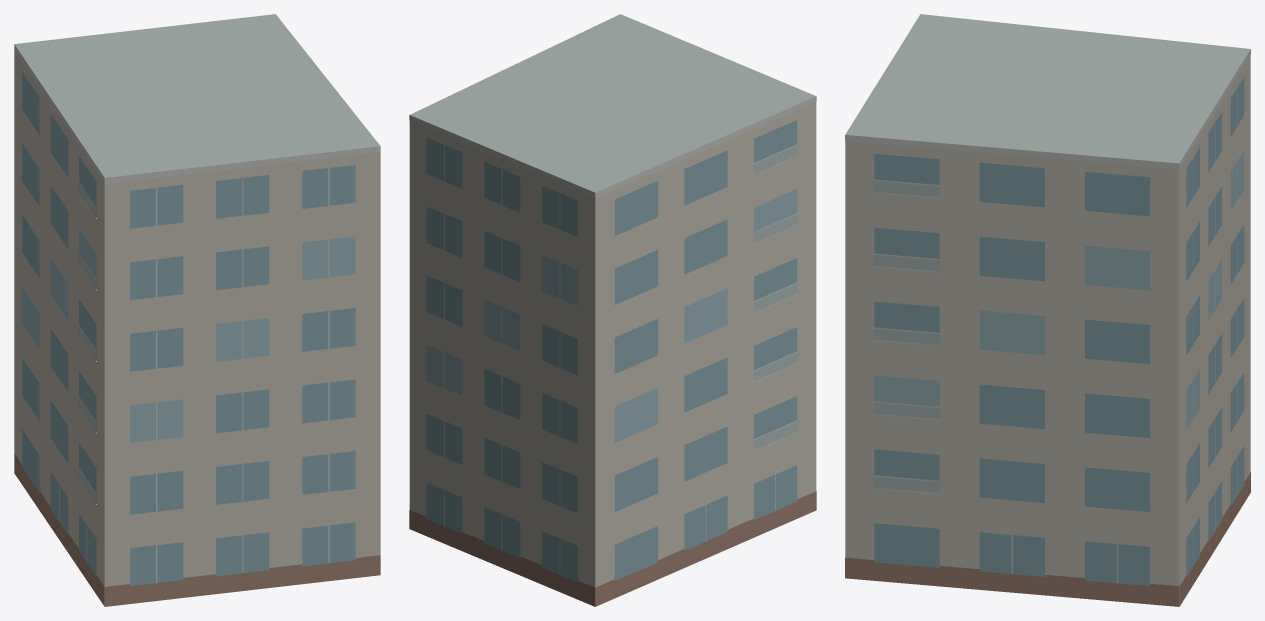
The model's file is survey-upis-32967521.glb.
3 views of the same model, side by side, from view 1: azimuth 30°, elevation 25°; view 2: azimuth 150°, elevation 25°; view 3: azimuth 270°, elevation 25° (orthographic). The views are drawn at different scales.
Parts seen in each view (by area): view 1: survey-upis-32967521.tmp; view 2: survey-upis-32967521.tmp; view 3: survey-upis-32967521.tmp.
Part boxes in pixels (bbox=[...]): survey-upis-32967521.tmp: bbox=[14, 14, 380, 606]; survey-upis-32967521.tmp: bbox=[409, 14, 816, 606]; survey-upis-32967521.tmp: bbox=[845, 14, 1250, 606].
Bounding box in the file's own units: 13.23 × 18.3 × 15.18.
